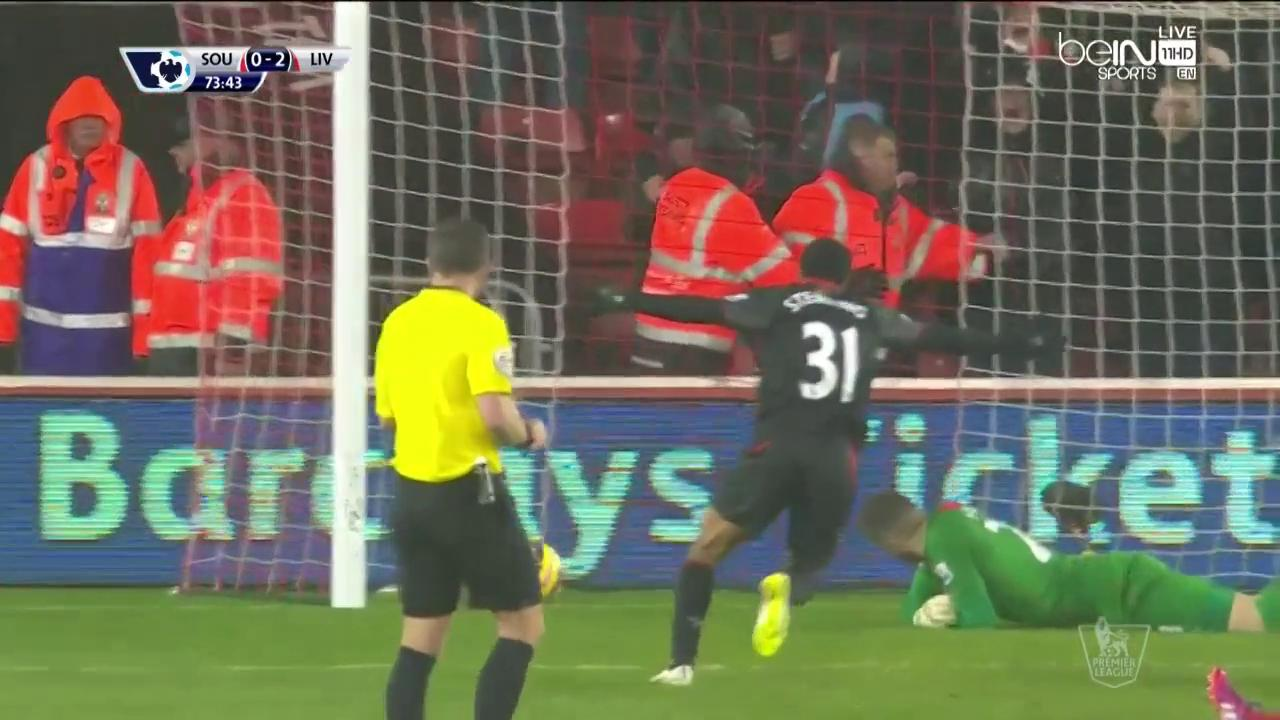football: (534, 536, 563, 598)
